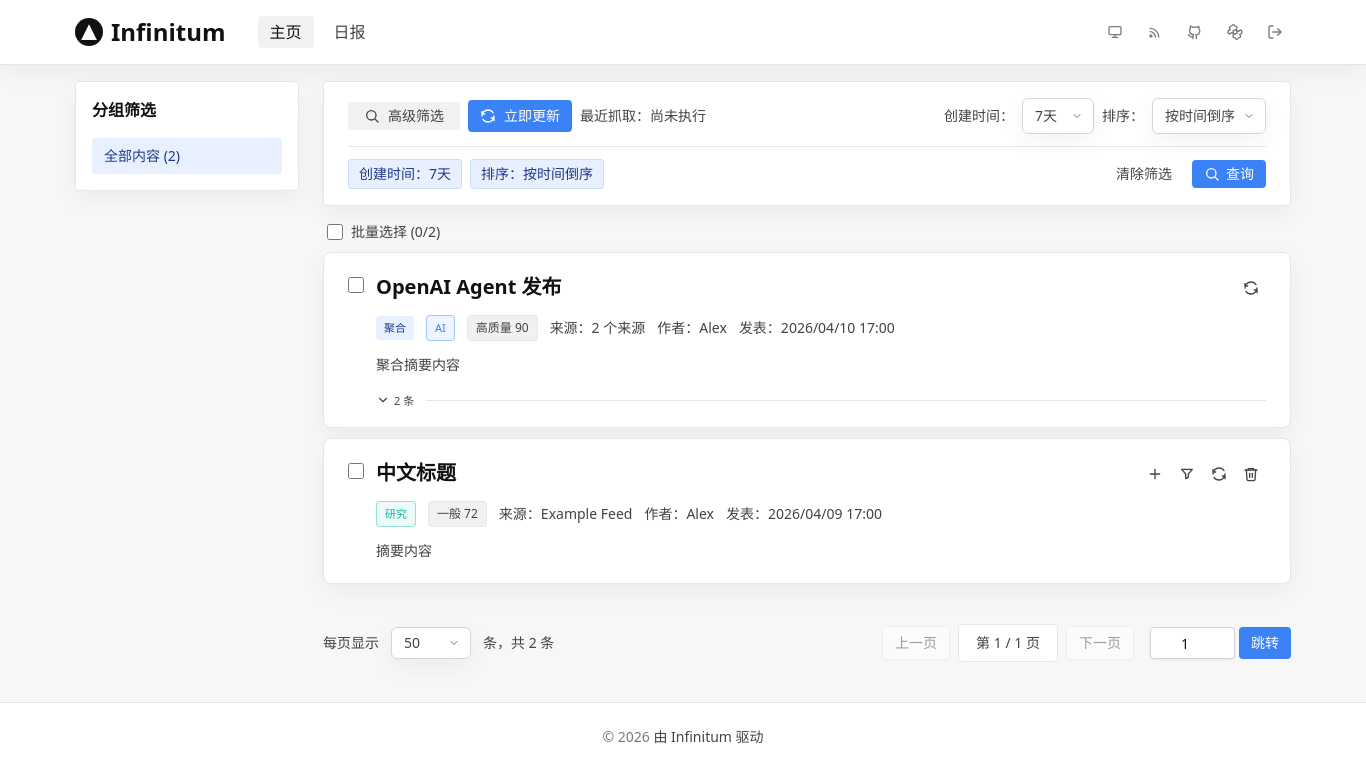
FeedPanel › lets admins search clusters by title and manually join a singleton cluster from a homepage card
This screenshot has width=1366, height=768.
Click the button named "加入聚合组：中文标题": click(1155, 474) x1=1140 y1=459 x2=1170 y2=489
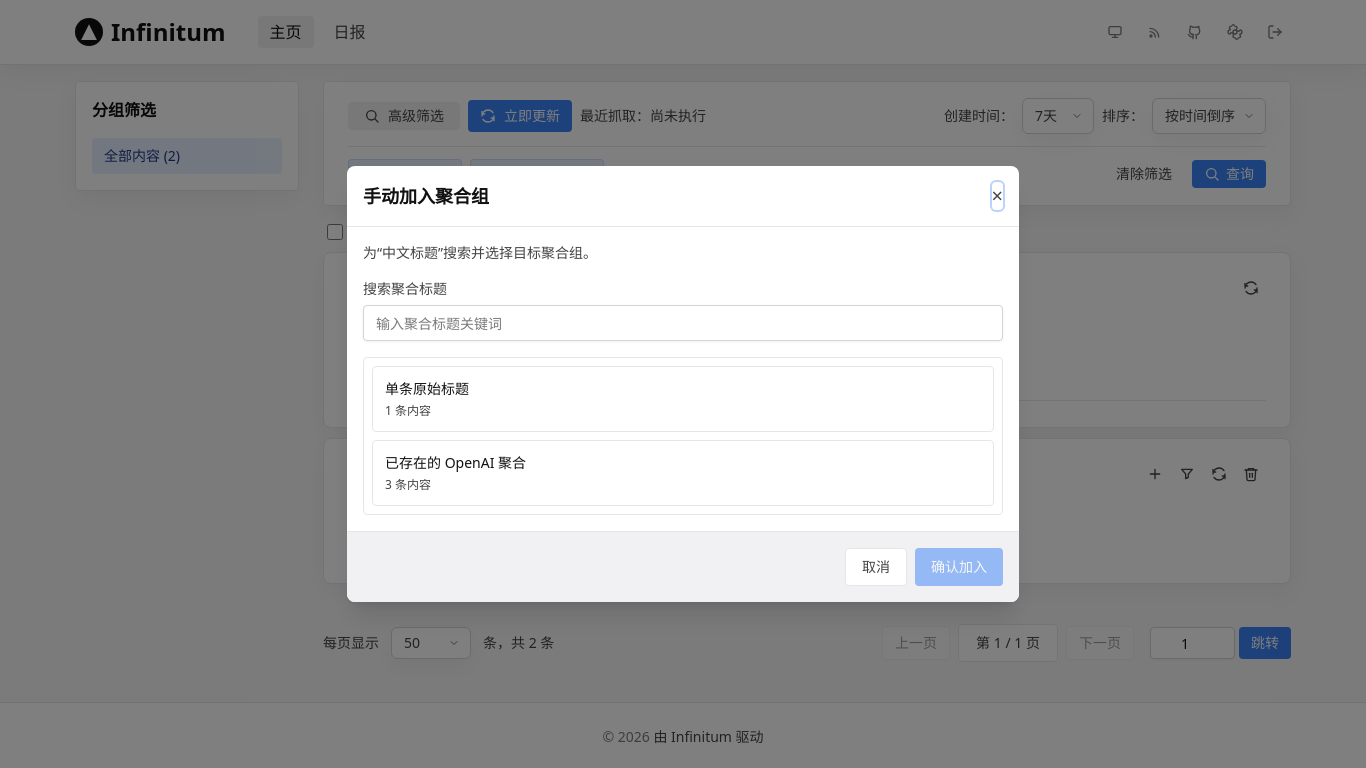
Result: the text "单条原始标题" is shown at x1=385 y1=379 x2=469 y2=398
Result: the text "1 条内容" is shown at x1=385 y1=402 x2=431 y2=419
In the field labelled "搜索聚合标题": (683, 323) x1=363 y1=305 x2=1003 y2=341, type "单条"
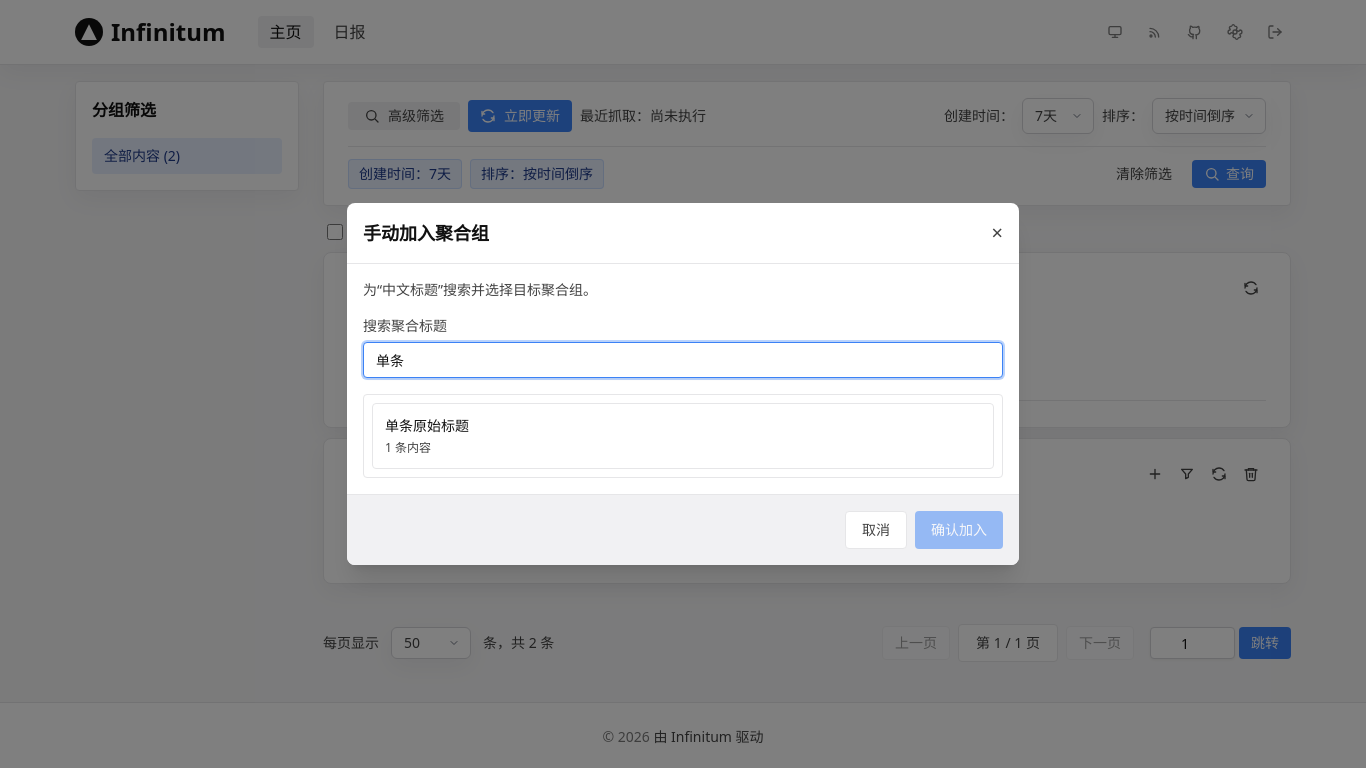
Click the button with aria-label "选择聚合组：单条原始标题": click(427, 426) x1=372 y1=403 x2=994 y2=469
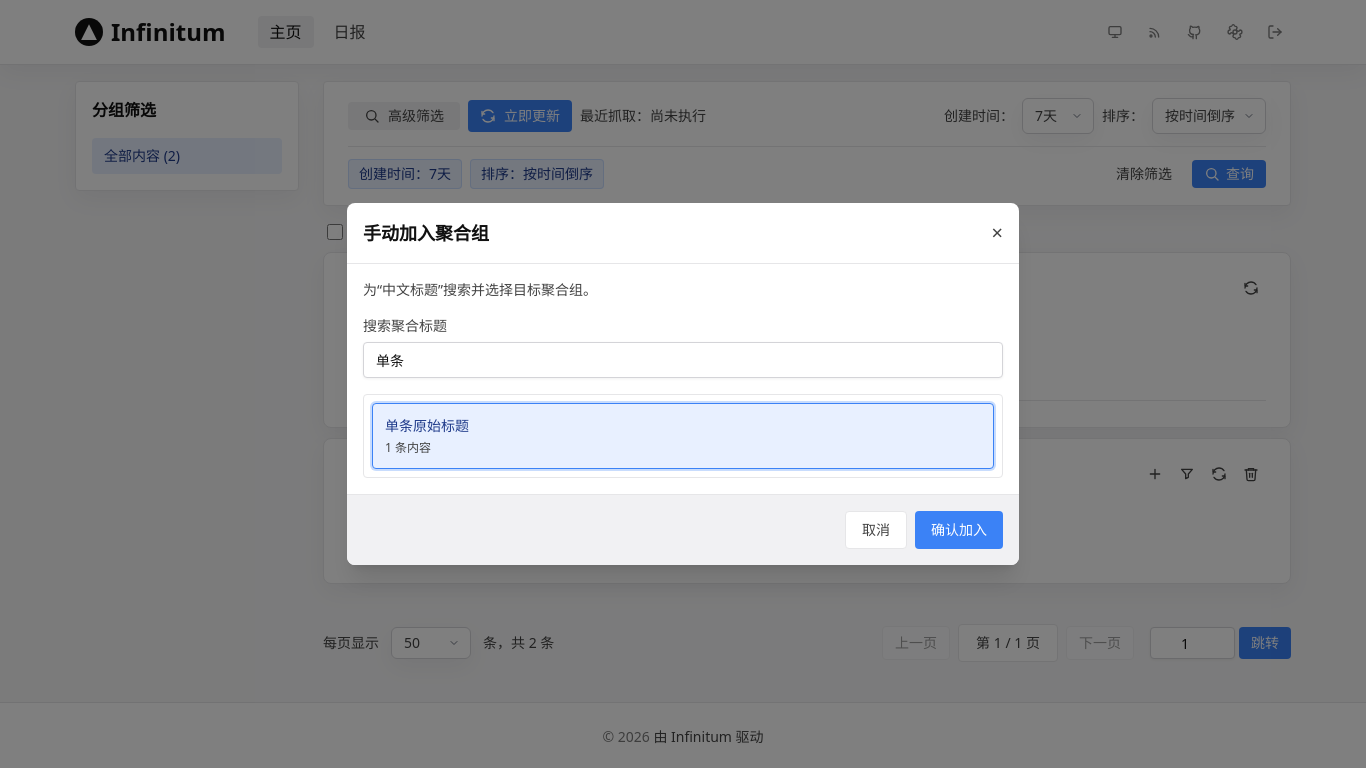
Click the button "确认加入": click(959, 530) x1=915 y1=511 x2=1003 y2=549
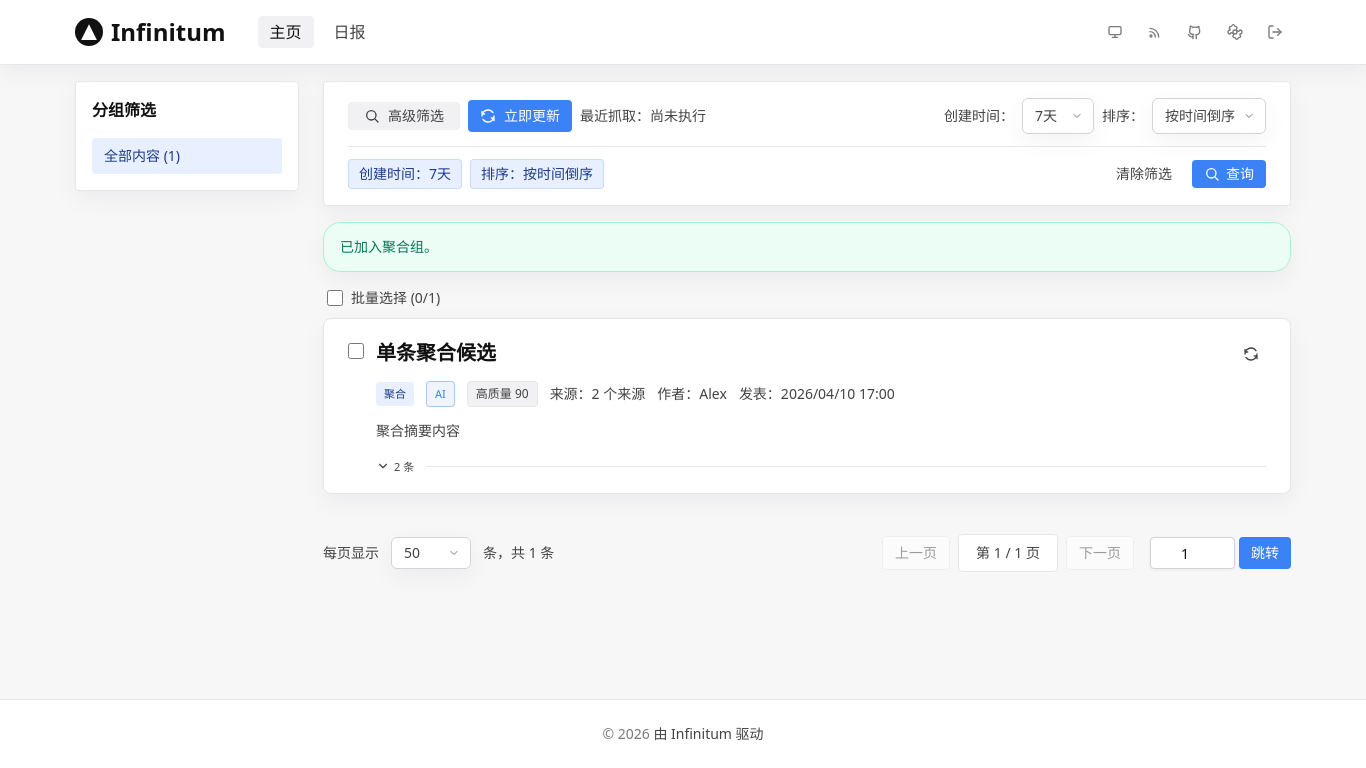
Result: the text "已加入聚合组。" is shown at x1=323 y1=222 x2=1291 y2=272
